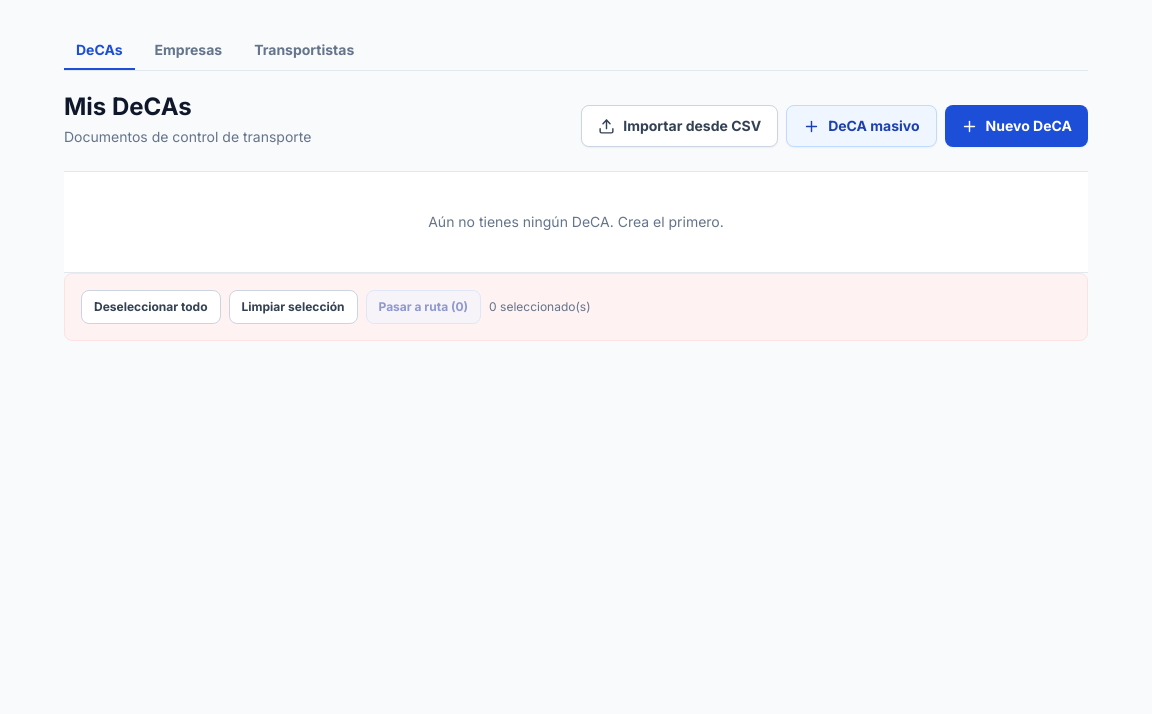
Scenario: identidades y carga del transportista en DeCASection › aplica un predeterminado remoto a la creación masiva abierta durante la carga
This screenshot has width=1152, height=714.
Step 1. Click the button "DeCA masivo" → coordinates (861, 126), box [786,105,937,147]
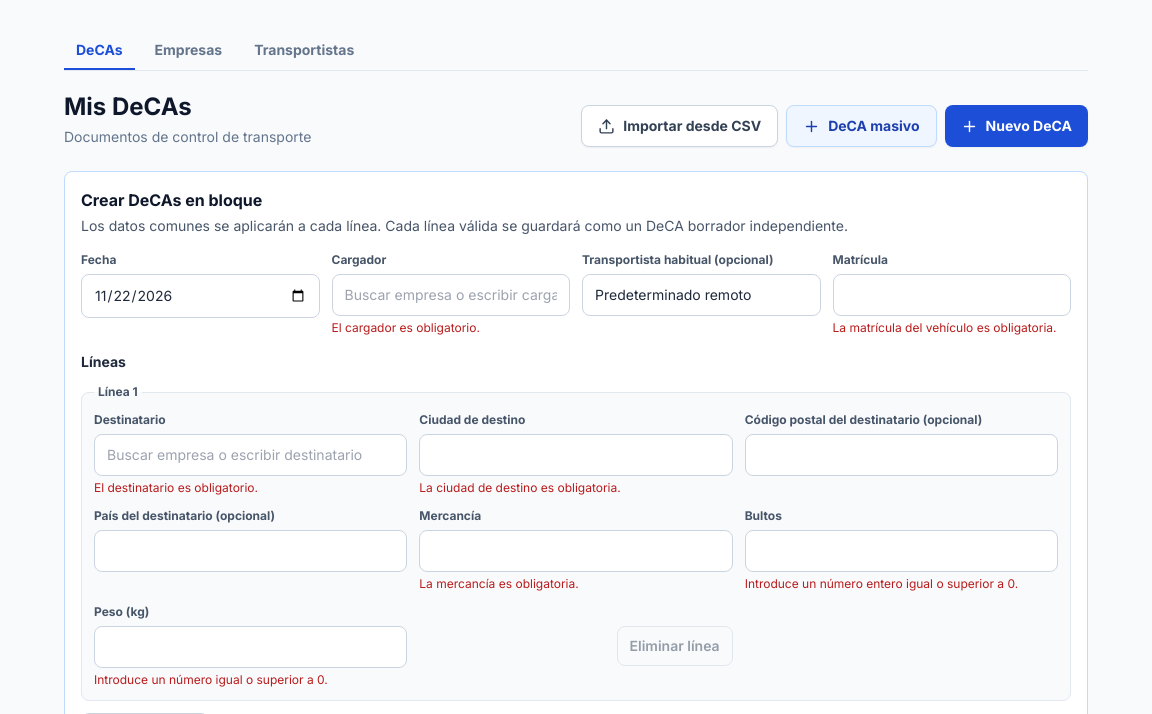
Check: the heading "Crear DeCAs en bloque" is shown, box [81,190,262,210]
